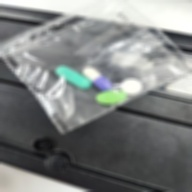러키펜정: (120, 79, 143, 96)
씨엠지세파클러캡슐: (82, 67, 114, 92)
에르도캡슐: (55, 66, 92, 91)
휴티렌정: (95, 89, 128, 105)
